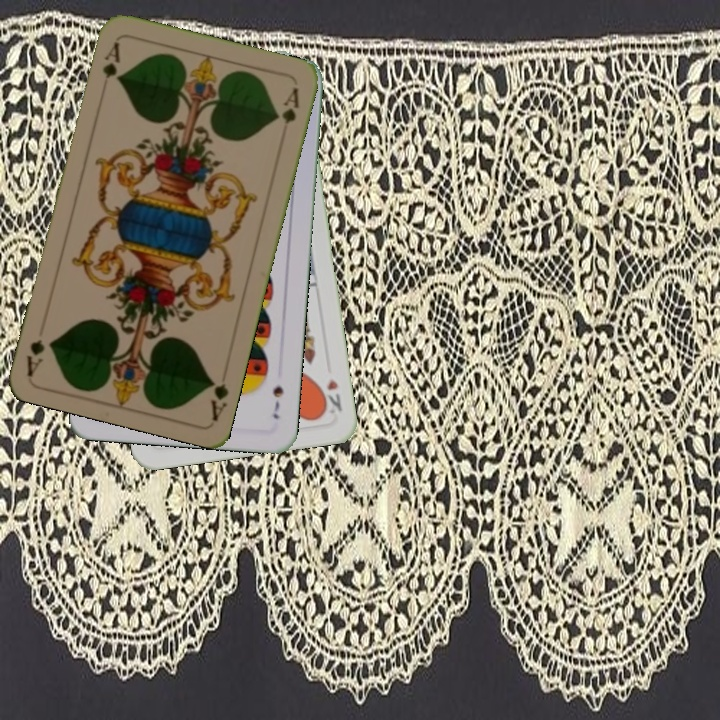GA: (97, 37, 123, 95), (205, 375, 231, 423)
HK: (316, 374, 344, 416)
S7: (268, 381, 286, 421)
